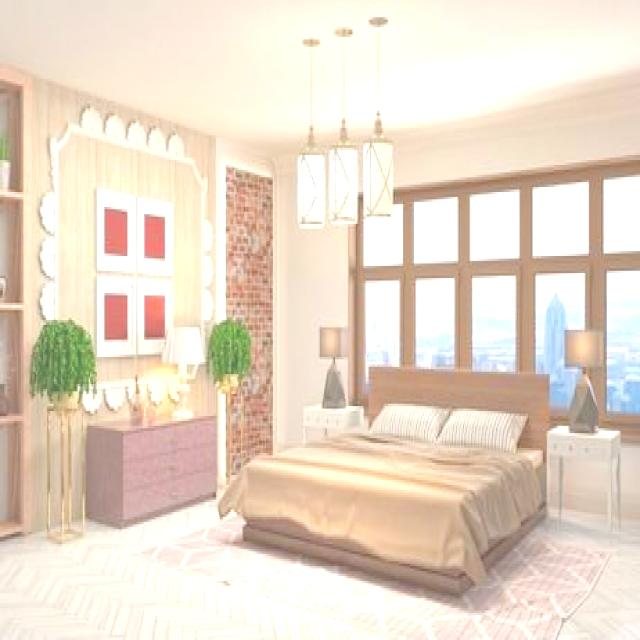bed: (243, 374, 550, 542)
